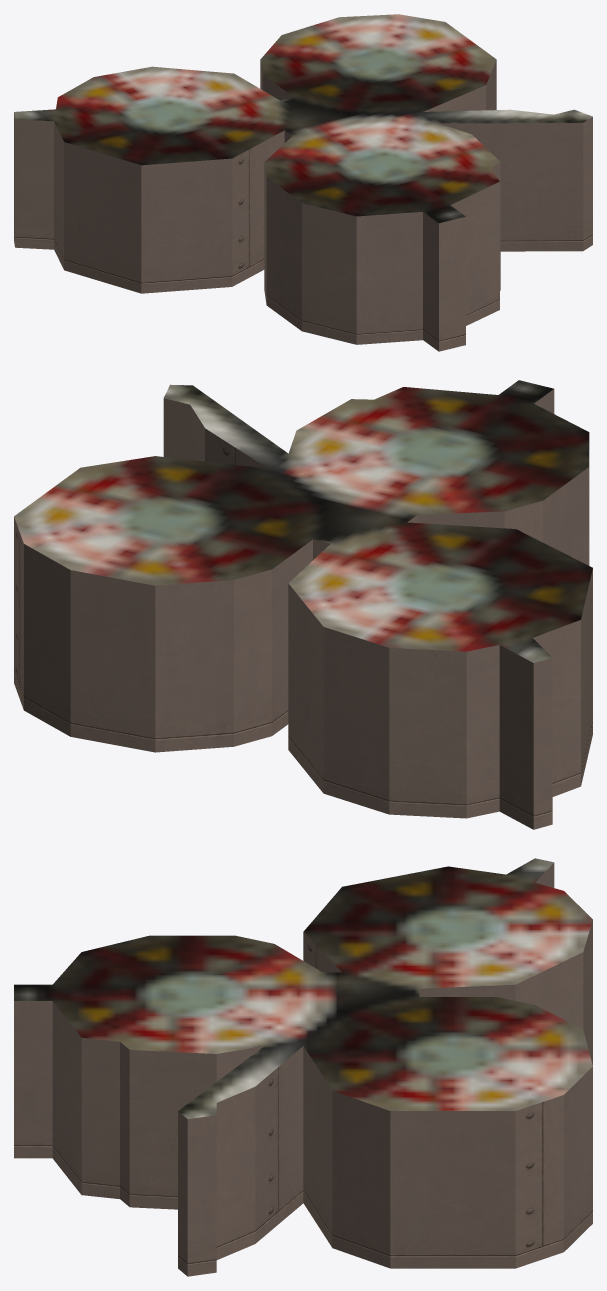
The model's file is fuel_tank_hard_44.glb.
3 renders of one model, top to bottom at view 1: azimuth 30°, elevation 25°; view 2: azimuth 150°, elevation 25°; view 3: azimuth 270°, elevation 25°, orthographic. The views are drawn at different scales.
Visible parts, largest first — view 1: buildings/saxarba/fuel_tanks/fuel_tank_hard_44; view 2: buildings/saxarba/fuel_tanks/fuel_tank_hard_44; view 3: buildings/saxarba/fuel_tanks/fuel_tank_hard_44.
Boxes of the visible parts, box(x1,y1,x2,y2) form: buildings/saxarba/fuel_tanks/fuel_tank_hard_44: box(14, 14, 592, 351); buildings/saxarba/fuel_tanks/fuel_tank_hard_44: box(14, 380, 592, 829); buildings/saxarba/fuel_tanks/fuel_tank_hard_44: box(14, 858, 592, 1276).
Size of the model in its own units: 64 by 18 by 60.
